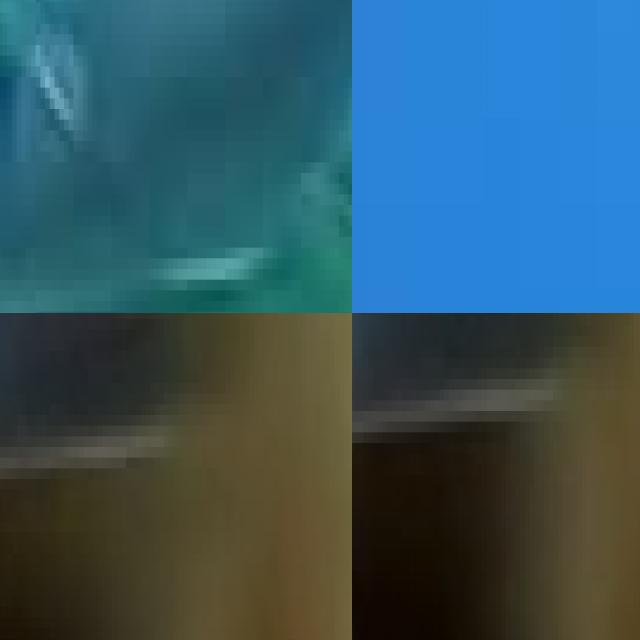fish: (0, 0, 352, 313), (352, 0, 640, 313)
